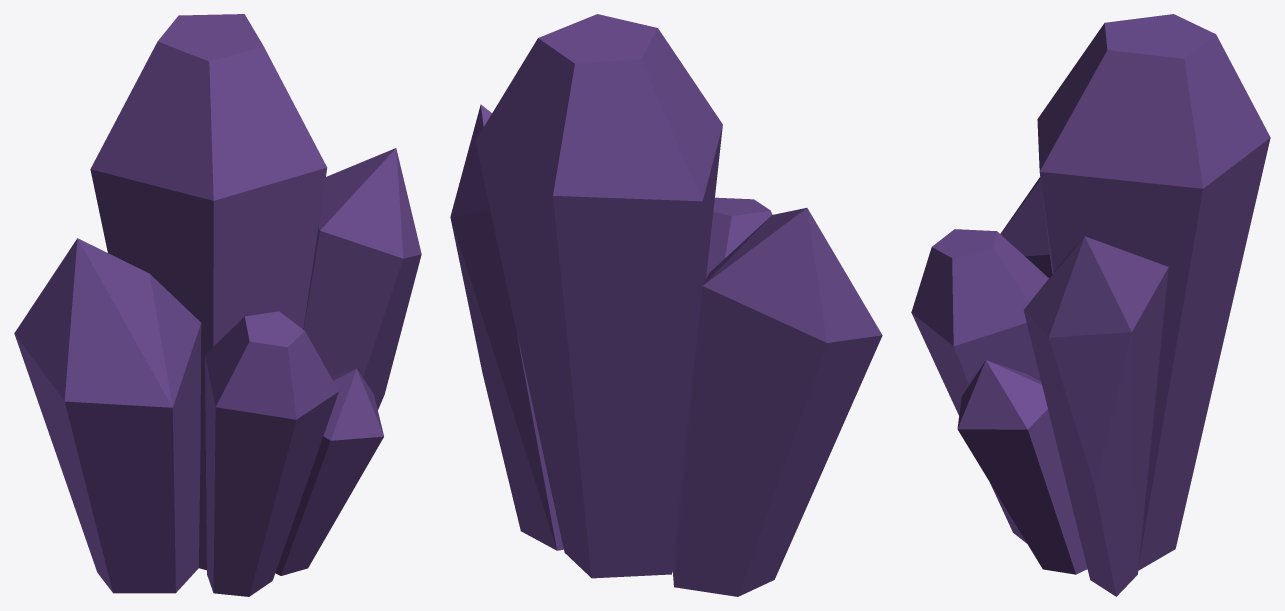
Rendered from CrystalC.fbx.
The picture shows the model from 3 angles, left to right: view 1: azimuth 30°, elevation 25°; view 2: azimuth 150°, elevation 25°; view 3: azimuth 270°, elevation 25°; orthographic projection. The views are drawn at different scales.
Parts seen in each view (by area): view 1: CrystalC; view 2: CrystalC; view 3: CrystalC.
Boxes of the visible parts, bbox=[...] form: CrystalC: bbox=[14, 14, 421, 596]; CrystalC: bbox=[450, 14, 882, 596]; CrystalC: bbox=[911, 14, 1270, 596].
Bounding box in the file's own units: 30.77 × 40.63 × 25.77.
